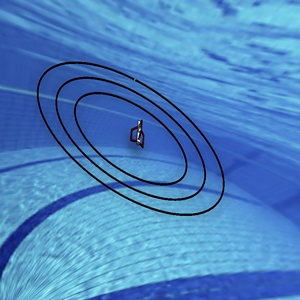circle: (23, 41, 246, 236)
submarine: (124, 110, 155, 157)
